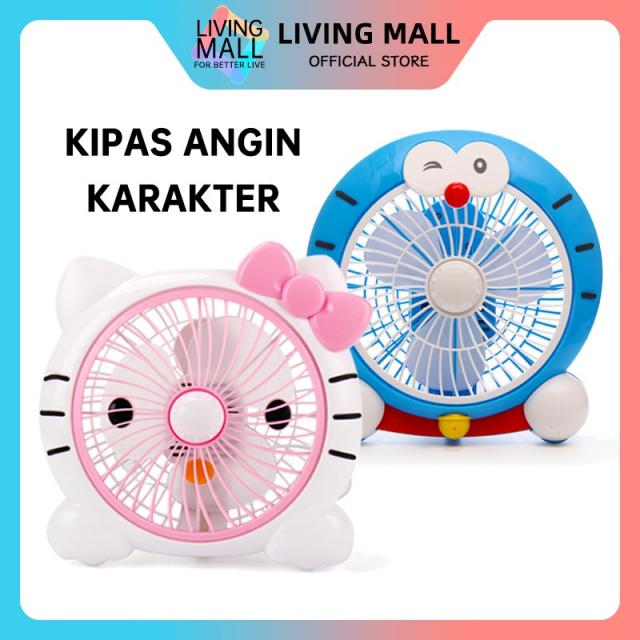fan: (41, 243, 372, 570)
